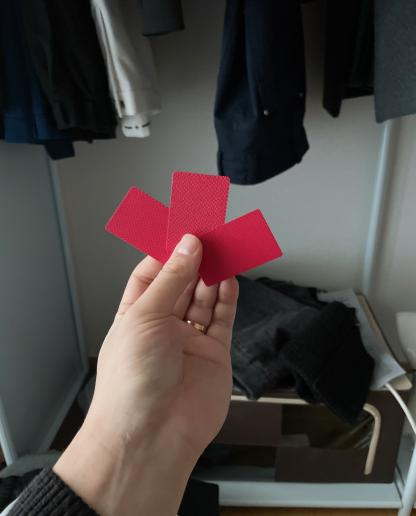ThreeHwatoo: (93, 158, 292, 292)
